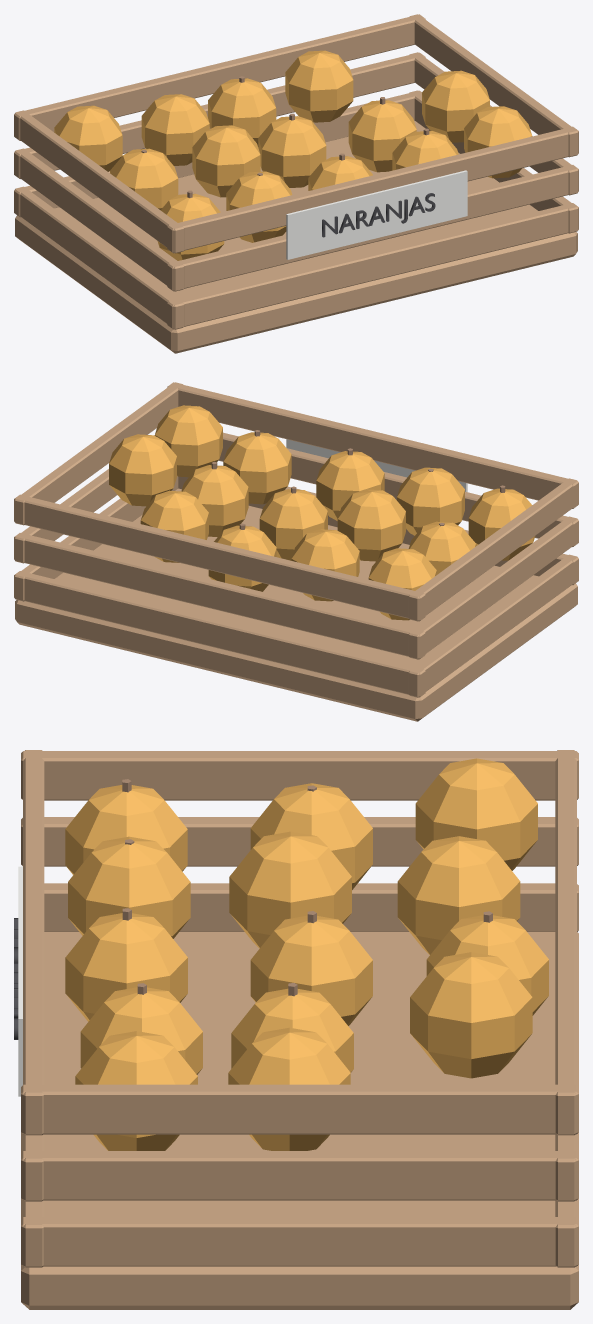
The model's file is Caja_Naranjas.fbx.
3 renders of one model, top to bottom at view 1: azimuth 30°, elevation 25°; view 2: azimuth 150°, elevation 25°; view 3: azimuth 270°, elevation 25°, orthographic. The views are drawn at different scales.
Parts seen in each view (by area): view 1: Caja_Naranjas | Suelo caja, Caja_Naranjas | Liston caja, Caja_Naranjas | Liston caja.002, Caja_Naranjas | Liston caja.005, Caja_Naranjas | Etiqueta caja, Caja_Naranjas | Liston caja.001, Caja_Naranjas | Liston caja.006, Caja_Naranjas | Liston caja.007, Caja_Naranjas | Liston caja.008, Caja_Naranjas | Liston caja.011, Caja_Naranjas | Naranjas.013, Caja_Naranjas | Naranjas.007 (+17 smaller); view 2: Caja_Naranjas | Suelo caja, Caja_Naranjas | Liston caja.004, Caja_Naranjas | Liston caja.003, Caja_Naranjas | Liston caja.005, Caja_Naranjas | Liston caja.002, Caja_Naranjas | Liston caja.006, Caja_Naranjas | Liston caja.007, Caja_Naranjas | Liston caja.008, Caja_Naranjas | Liston caja.011, Caja_Naranjas | Naranjas.009, Caja_Naranjas | Naranjas.006, Caja_Naranjas | Naranjas.003 (+16 smaller); view 3: Caja_Naranjas | Suelo caja, Caja_Naranjas | Liston caja.011, Caja_Naranjas | Liston caja.010, Caja_Naranjas | Liston caja.009, Caja_Naranjas | Liston caja.008, Caja_Naranjas | Naranjas.013, Caja_Naranjas | Naranjas.006, Caja_Naranjas | Naranjas.011, Caja_Naranjas | Naranjas.010, Caja_Naranjas | Naranjas.001, Caja_Naranjas | Naranjas.002, Caja_Naranjas | Naranjas.007 (+16 smaller).
Boxes of the visible parts, box(x1,y1,x2,y2) form: Caja_Naranjas | Suelo caja: box(15, 120, 577, 353); Caja_Naranjas | Liston caja: box(167, 203, 578, 329); Caja_Naranjas | Liston caja.002: box(167, 126, 578, 253); Caja_Naranjas | Liston caja.005: box(14, 14, 425, 140); Caja_Naranjas | Etiqueta caja: box(286, 170, 467, 259); Caja_Naranjas | Liston caja.001: box(167, 165, 578, 291); Caja_Naranjas | Liston caja.006: box(15, 186, 184, 329); Caja_Naranjas | Liston caja.007: box(15, 148, 184, 291); Caja_Naranjas | Liston caja.008: box(15, 110, 184, 253); Caja_Naranjas | Liston caja.011: box(409, 14, 578, 157); Caja_Naranjas | Naranjas.013: box(285, 50, 353, 122); Caja_Naranjas | Naranjas.007: box(258, 116, 326, 187); Caja_Naranjas | Suelo caja: box(15, 488, 577, 721); Caja_Naranjas | Liston caja.004: box(14, 533, 425, 659); Caja_Naranjas | Liston caja.003: box(14, 571, 425, 697); Caja_Naranjas | Liston caja.005: box(14, 494, 425, 621); Caja_Naranjas | Liston caja.002: box(167, 382, 578, 508); Caja_Naranjas | Liston caja.006: box(408, 554, 577, 697); Caja_Naranjas | Liston caja.007: box(408, 516, 577, 659); Caja_Naranjas | Liston caja.008: box(408, 478, 577, 621); Caja_Naranjas | Liston caja.011: box(14, 382, 183, 525); Caja_Naranjas | Naranjas.009: box(109, 434, 176, 506); Caja_Naranjas | Naranjas.006: box(337, 489, 405, 561); Caja_Naranjas | Naranjas.003: box(223, 432, 291, 504); Caja_Naranjas | Suelo caja: box(21, 932, 578, 1309); Caja_Naranjas | Liston caja.011: box(21, 1084, 578, 1134); Caja_Naranjas | Liston caja.010: box(21, 1151, 578, 1200); Caja_Naranjas | Liston caja.009: box(21, 1217, 578, 1266); Caja_Naranjas | Liston caja.008: box(21, 751, 578, 800); Caja_Naranjas | Naranjas.013: box(410, 952, 532, 1078); Caja_Naranjas | Naranjas.006: box(229, 831, 351, 948); Caja_Naranjas | Naranjas.011: box(397, 836, 520, 954); Caja_Naranjas | Naranjas.010: box(415, 758, 537, 870); Caja_Naranjas | Naranjas.001: box(68, 836, 190, 938); Caja_Naranjas | Naranjas.002: box(65, 913, 187, 1021); Caja_Naranjas | Naranjas.007: box(250, 915, 372, 1025).
Bounding box in the file's own units: 0.95 × 0.3154 × 0.658.
